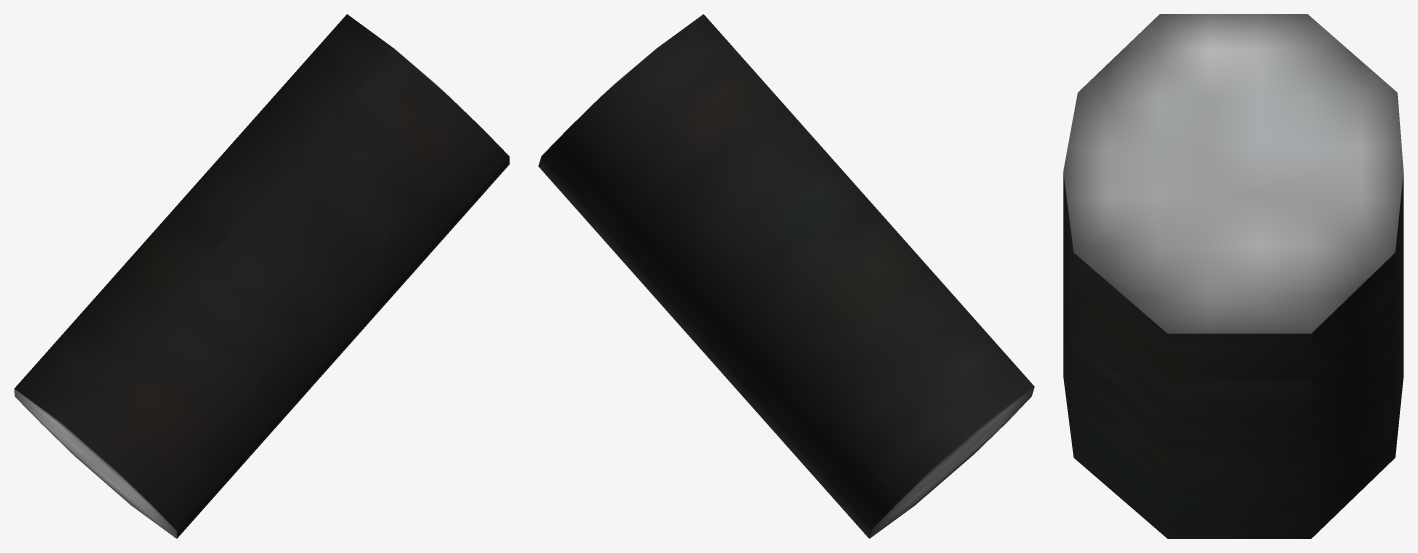
Rendered from FN57floadedchamberindicator.fbx.
3 renders of one model, left to right at view 1: azimuth 30°, elevation 25°; view 2: azimuth 150°, elevation 25°; view 3: azimuth 270°, elevation 25°, orthographic. The views are drawn at different scales.
Parts seen in each view (by area): view 1: loaded_chamber_indicator_on; view 2: loaded_chamber_indicator_on; view 3: loaded_chamber_indicator_on.
Boxes of the visible parts, x1,y1,x2,y2 form: loaded_chamber_indicator_on: (14,14,509,538); loaded_chamber_indicator_on: (538,14,1034,538); loaded_chamber_indicator_on: (1063,14,1403,538).
Bounding box in the file's own units: 0.389 × 0.3629 × 0.1624.
